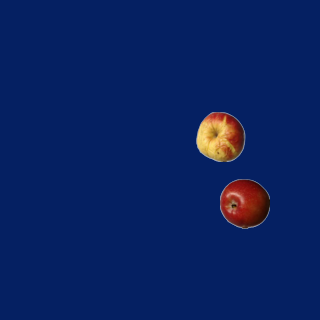Apple Braeburn: (219, 178, 269, 228)
Apple Red Yellow 1: (195, 111, 245, 161)
